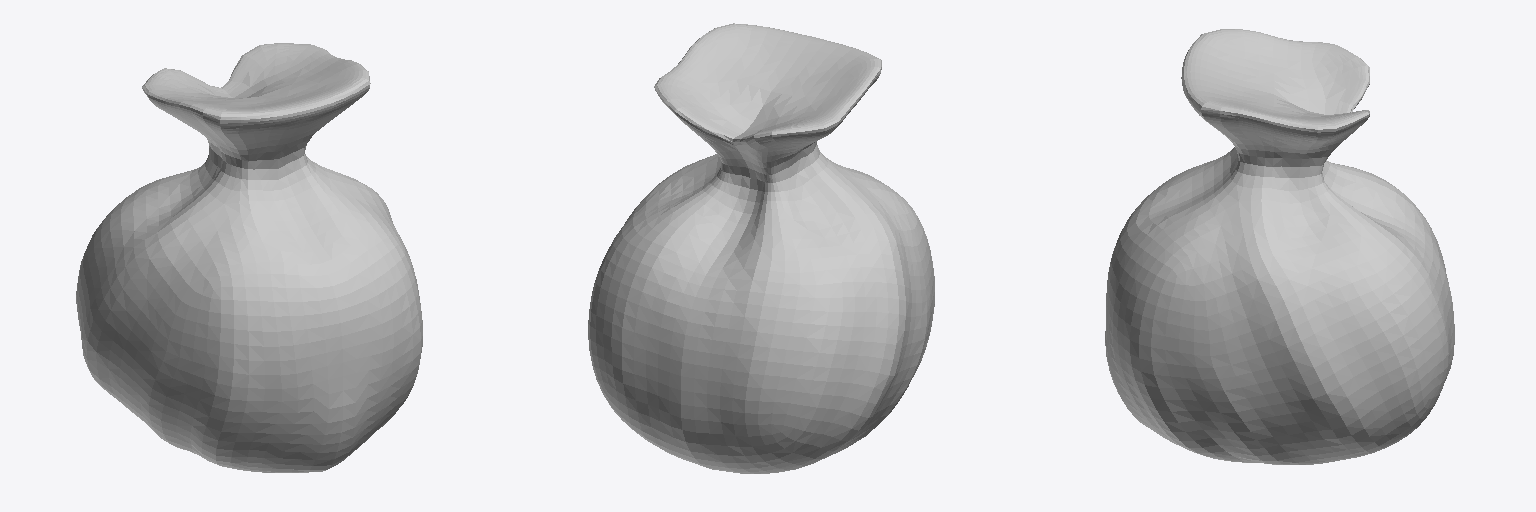
Rendered from sleeppowder.OBJ.
3 views of the same model, side by side, from view 1: azimuth 30°, elevation 25°; view 2: azimuth 150°, elevation 25°; view 3: azimuth 270°, elevation 25° (orthographic).
Bounding box in the file's own units: 19.28 × 23.78 × 20.06.